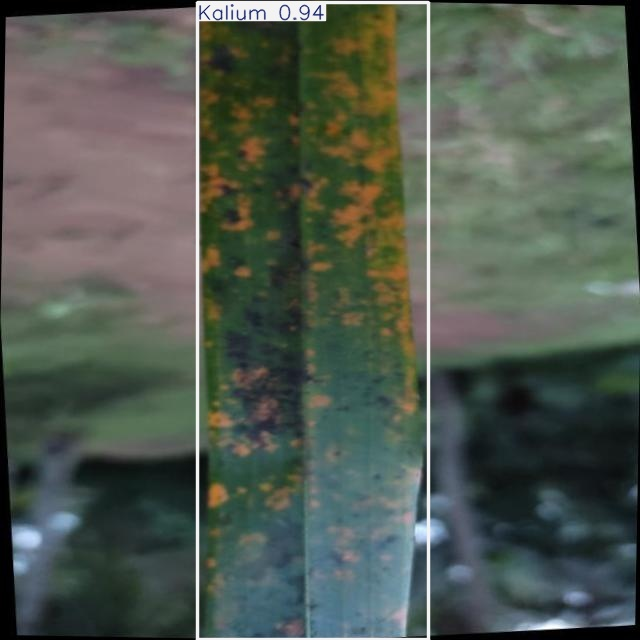Kalium: (198, 2, 429, 640)
